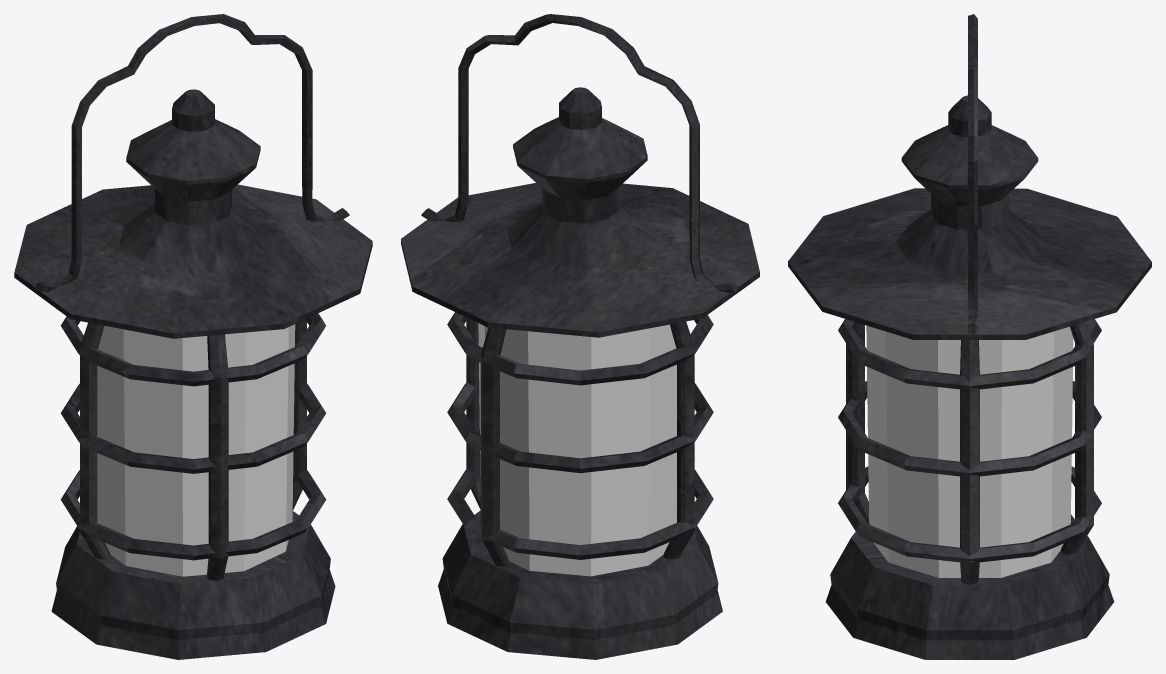
Rendered from lamp.fbx.
3 views of the same model, side by side, from view 1: azimuth 30°, elevation 25°; view 2: azimuth 150°, elevation 25°; view 3: azimuth 270°, elevation 25° (orthographic).
Parts seen in each view (by area): view 1: Lantern, Glass, Handle; view 2: Lantern, Glass, Handle; view 3: Lantern, Glass, Handle.
Boxes of the visible parts, <box> form: Lantern: <box>14,89,372,659</box>; Glass: <box>97,324,295,576</box>; Handle: <box>35,14,349,292</box>; Lantern: <box>401,87,759,659</box>; Glass: <box>478,323,676,576</box>; Handle: <box>421,14,737,292</box>; Lantern: <box>788,95,1151,659</box>; Glass: <box>866,325,1073,577</box>; Handle: <box>968,14,977,334</box>.
Size of the model in its own units: 49.81 by 88.22 by 50.41.
